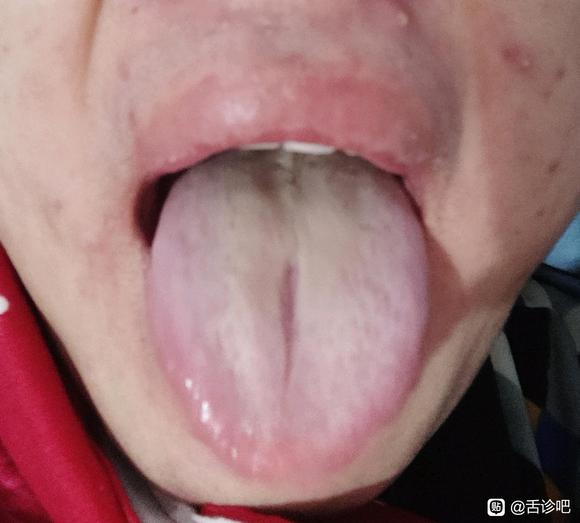huangtaishe: (148, 150, 428, 481)
liewenshe: (271, 254, 299, 387)
